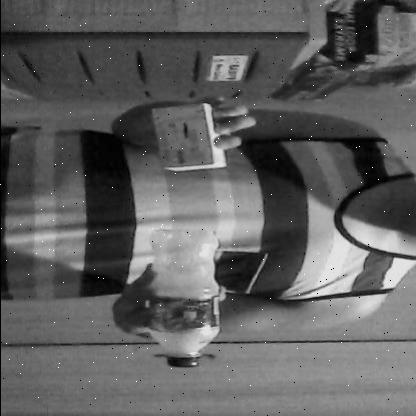Plastic Bottle: (129, 218, 236, 374)
